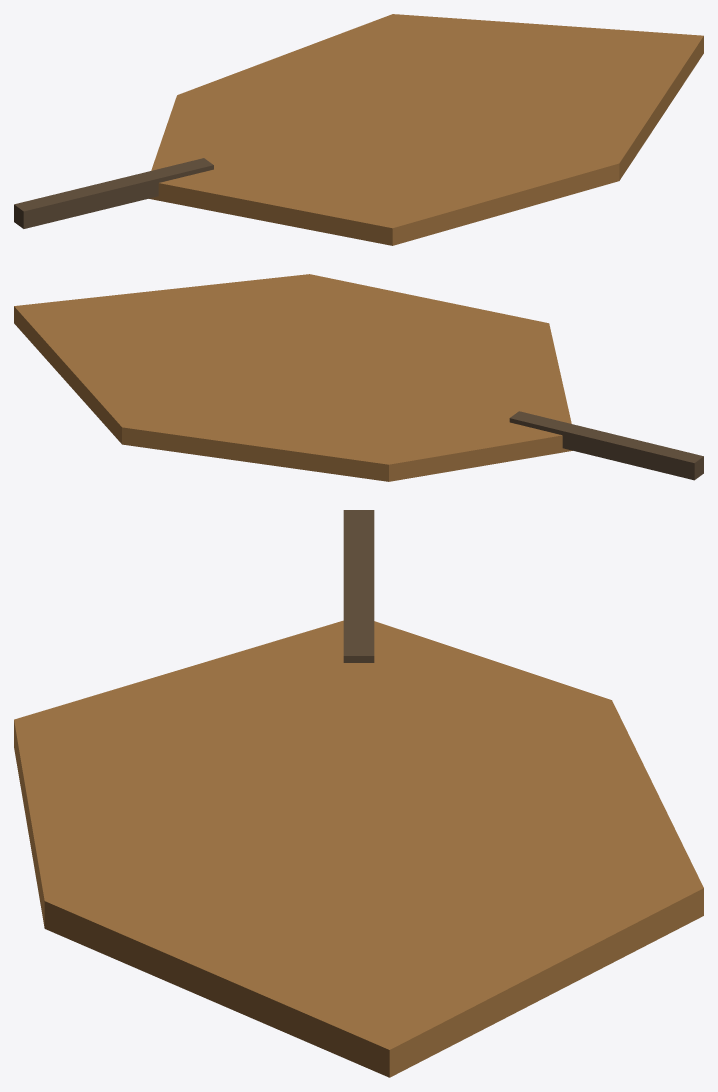
The model's file is loose_leaf.glb.
The picture shows the model from 3 angles, top to bottom: view 1: azimuth 30°, elevation 25°; view 2: azimuth 150°, elevation 25°; view 3: azimuth 270°, elevation 25°; orthographic projection. The views are drawn at different scales.
Visible parts, largest first — view 1: Dry leaf, Stem; view 2: Dry leaf, Stem; view 3: Dry leaf, Stem.
Part boxes in pixels (x1,y1,x2,y2): Dry leaf: (149,14,703,245); Stem: (14,158,213,228); Dry leaf: (14,274,572,481); Stem: (509,411,703,480); Dry leaf: (14,620,703,1077); Stem: (343,510,374,662).
Bounding box in the file's own units: 0.1645 × 0.005 × 0.09.
